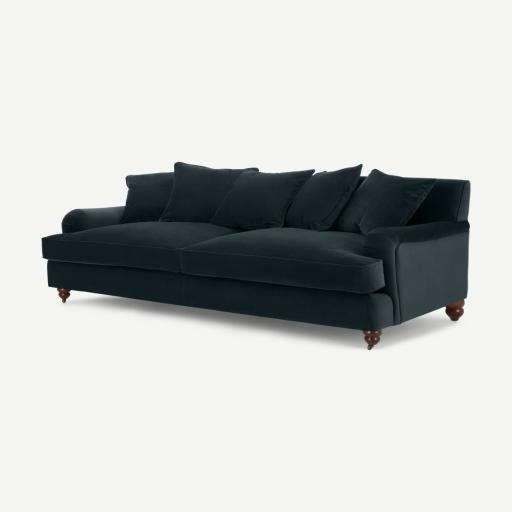back_cushion: (120, 162, 436, 234)
base: (49, 261, 392, 330)
left_arm: (364, 222, 469, 324)
legs: (445, 301, 464, 321), (363, 331, 382, 350), (57, 288, 70, 303)
right_arm: (62, 206, 124, 233)
seat_cushion: (43, 222, 384, 293)
two-seater: (0, 0, 511, 512)
